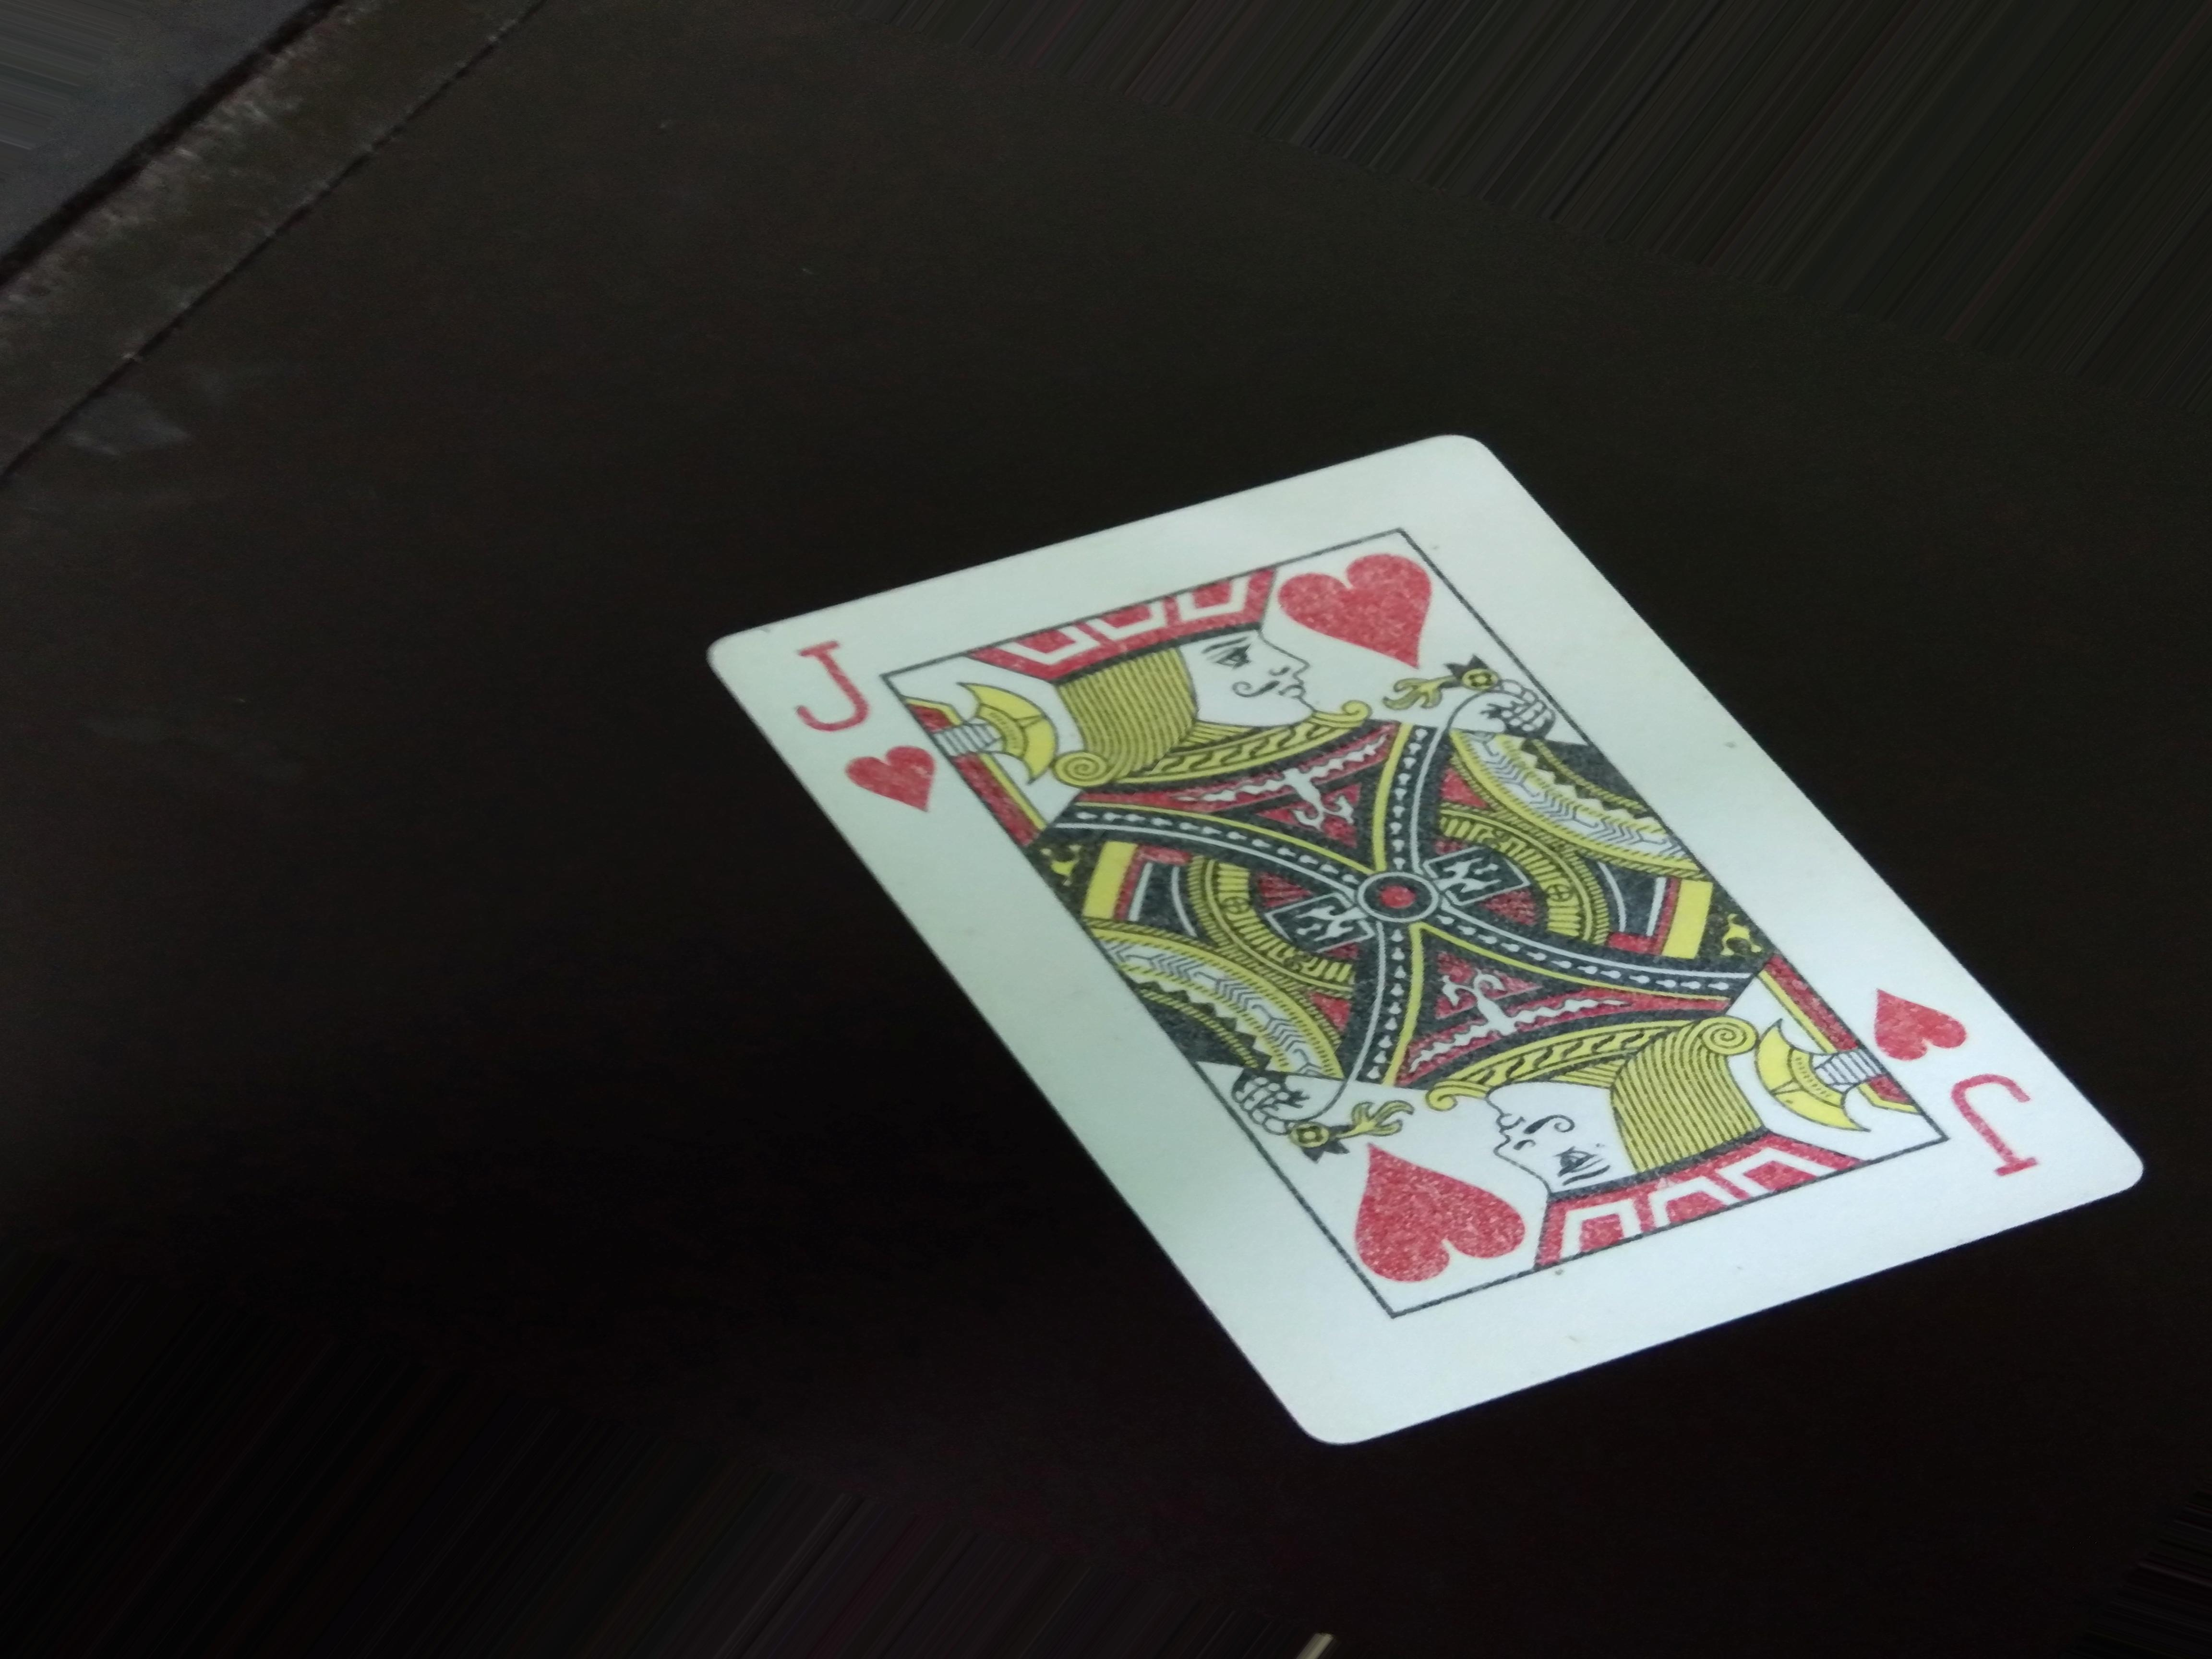JH: (803, 626, 939, 849)
